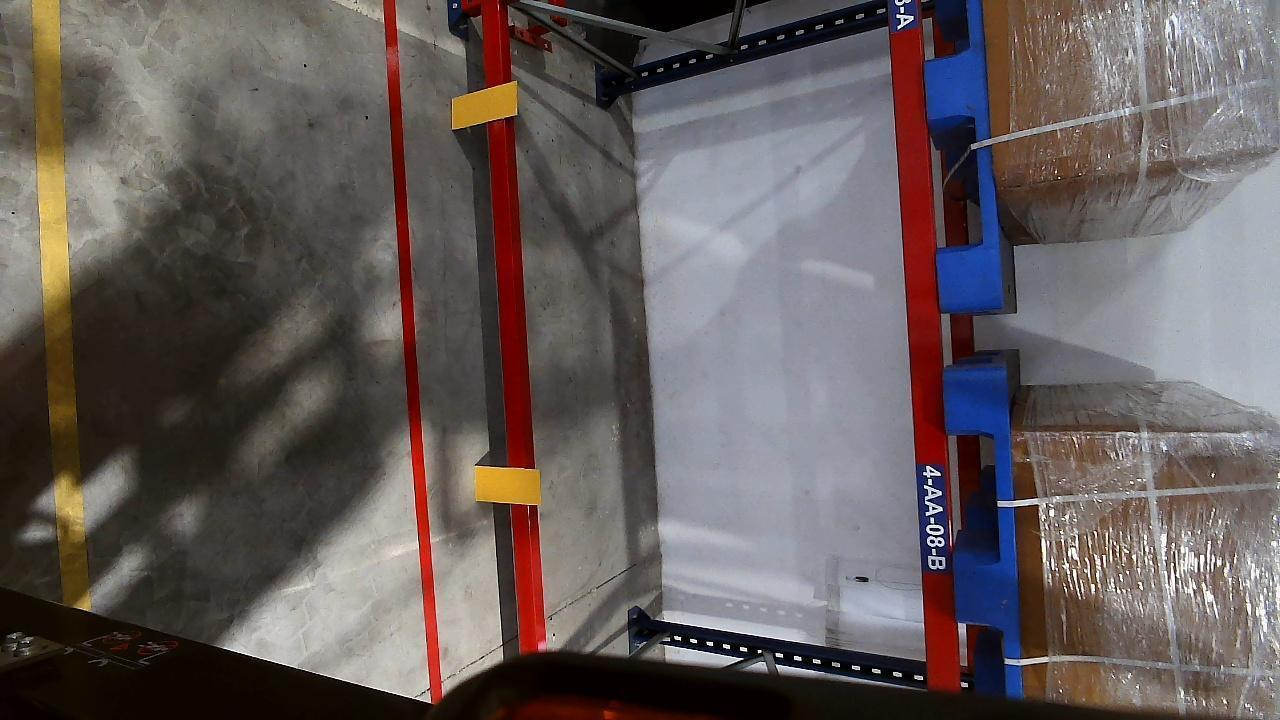red_line: (381, 0, 446, 704)
yellow_line: (27, 0, 83, 591)
